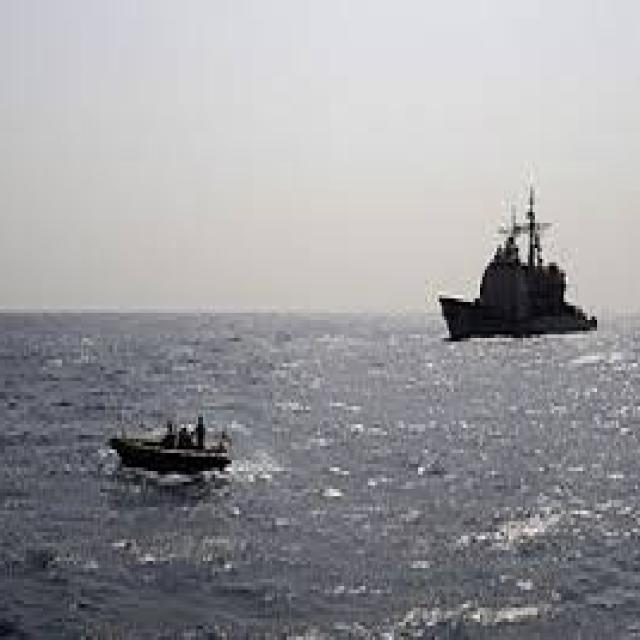navalvessels: (436, 194, 606, 340)
